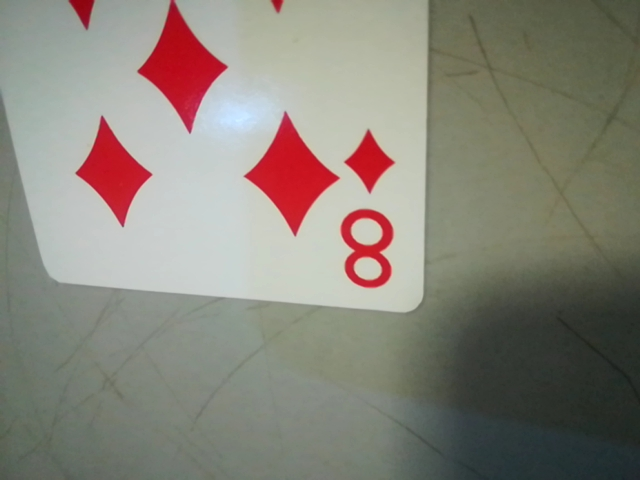fk 8: (327, 118, 411, 299)
